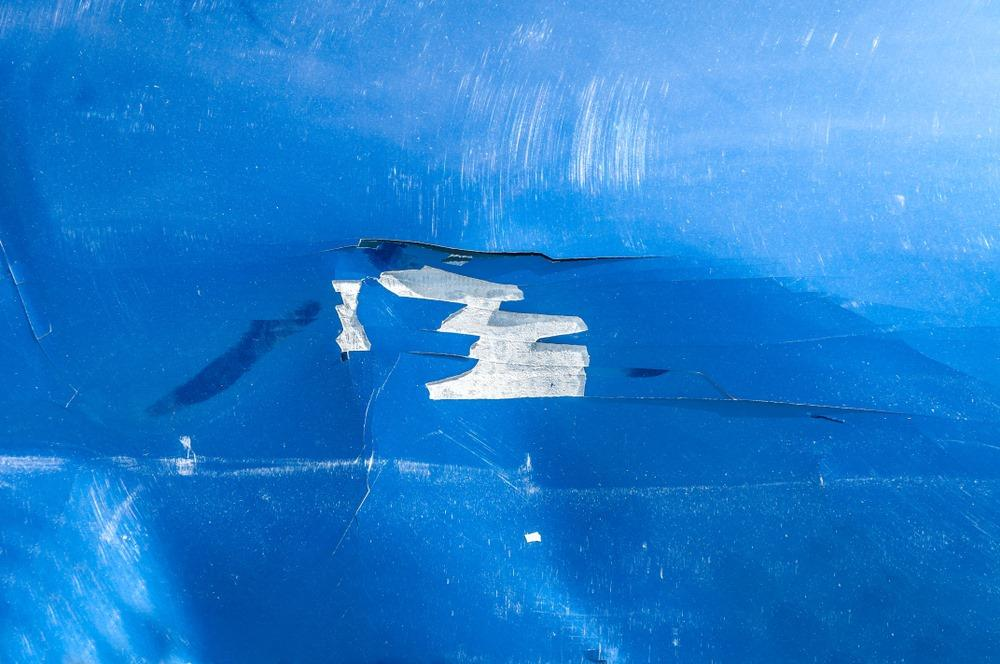dent: (0, 122, 949, 664)
scratch: (389, 14, 682, 234)
